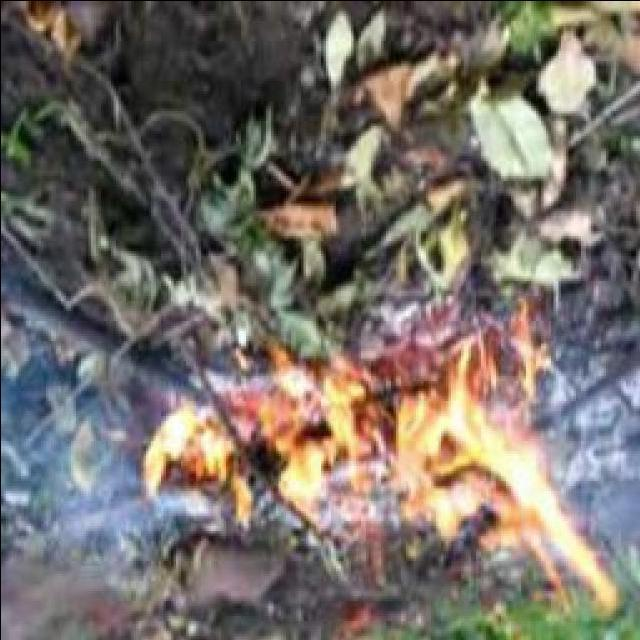Fire: (350, 346, 571, 607), (138, 361, 389, 511)
